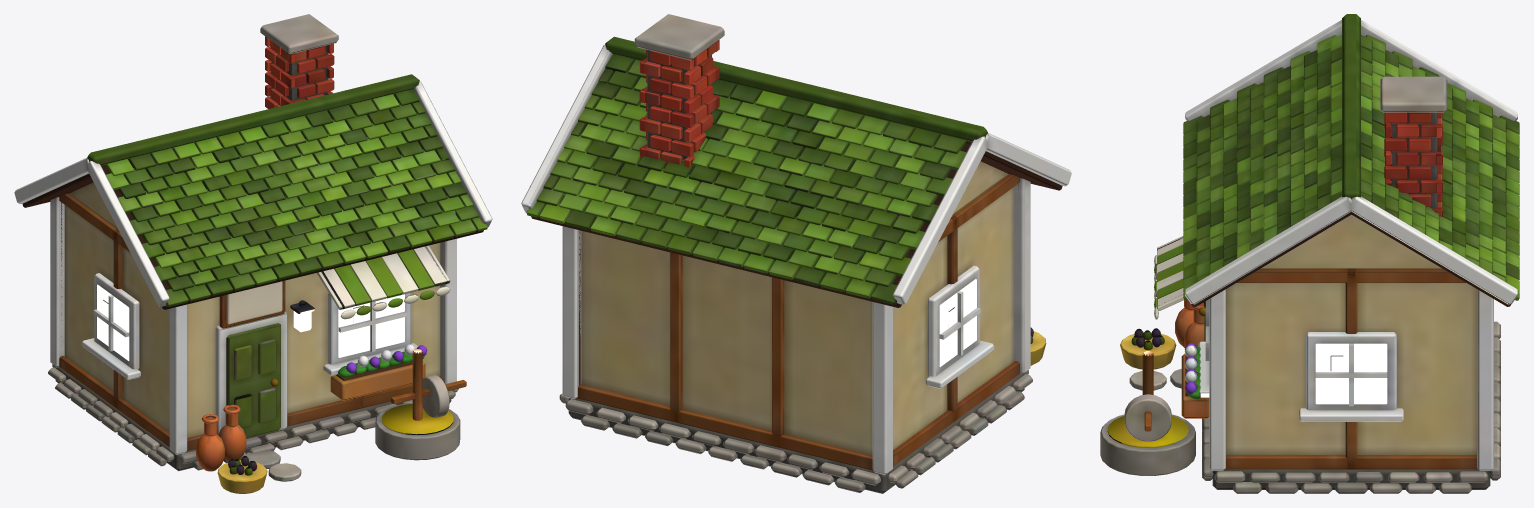
File: oil_press.glb
3 views of the same model, side by side, from view 1: azimuth 30°, elevation 25°; view 2: azimuth 150°, elevation 25°; view 3: azimuth 270°, elevation 25° (orthographic). The views are drawn at different scales.
Parts seen in each view (by area): view 1: oil_press, spinY_mill; view 2: oil_press; view 3: oil_press, spinY_mill.
Boxes of the visible parts, x1,y1,x2,y2 form: oil_press: (14, 14, 492, 493); spinY_mill: (391, 375, 466, 418); oil_press: (521, 14, 1071, 493); oil_press: (1100, 14, 1519, 493); spinY_mill: (1124, 394, 1171, 441).
Bounding box in the file's own units: 1.8 × 1.69 × 1.75.
1 material, 1 textured.
